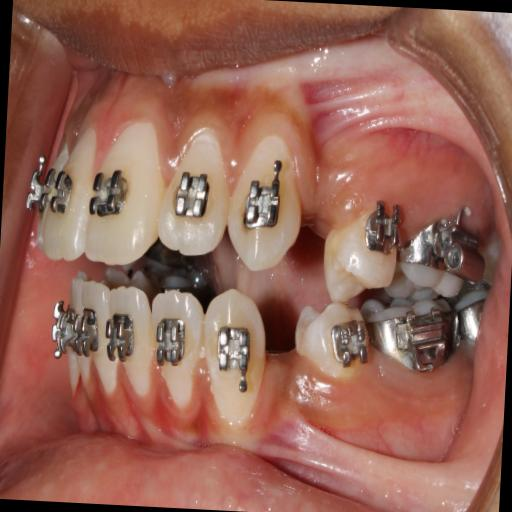correct_brace: (238, 151, 290, 237), (210, 320, 258, 400), (325, 313, 377, 373), (85, 164, 138, 222), (169, 165, 212, 225), (149, 312, 190, 374)
incorrect_brace: (156, 110, 235, 266), (144, 281, 206, 418)
